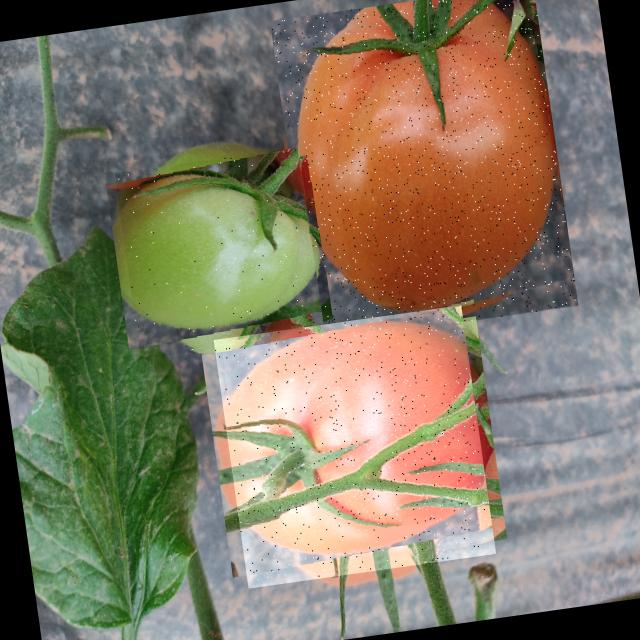Ripe Tomato: (269, 0, 578, 343), (214, 306, 496, 588)
Unripe Tomato: (114, 148, 324, 360)
